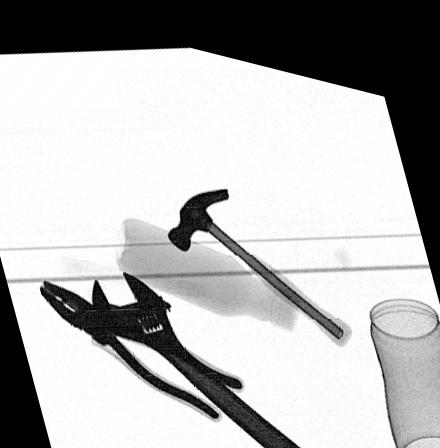Hammer: (165, 176, 357, 330)
Pliers: (37, 273, 247, 411)
Wrench: (91, 264, 308, 448)
